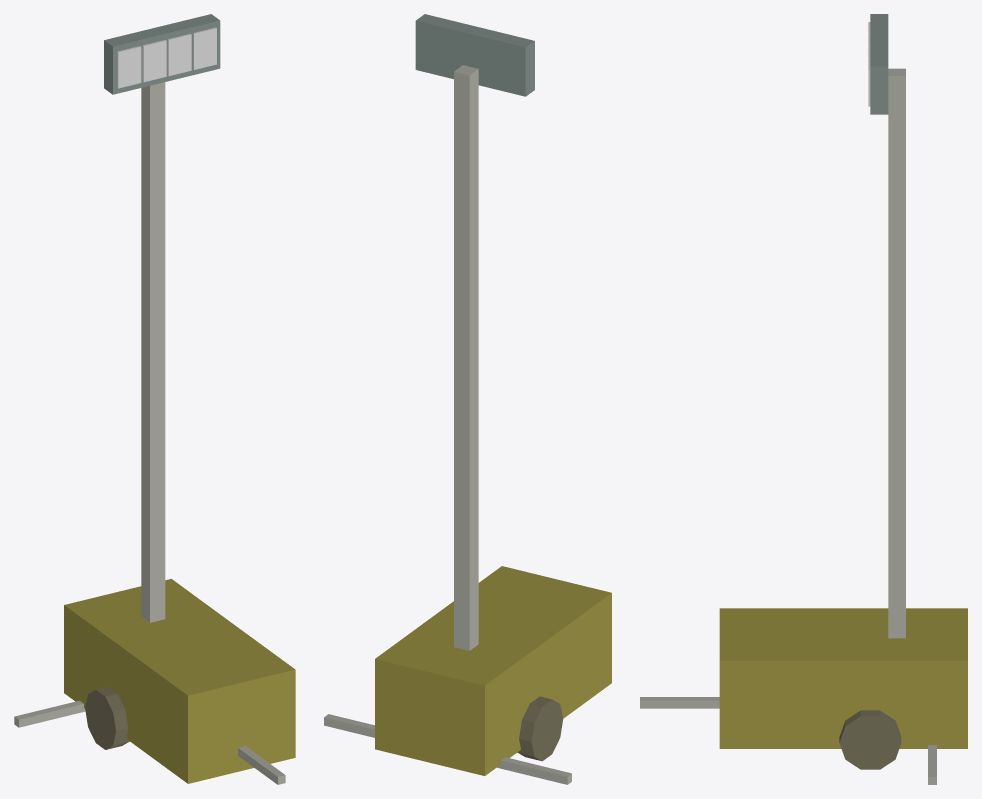
The model's file is SM_TorreLuz_v0_Desplegada_LOD0.fbx.
3 views of the same model, side by side, from view 1: azimuth 30°, elevation 25°; view 2: azimuth 150°, elevation 25°; view 3: azimuth 270°, elevation 25° (orthographic). The views are drawn at different scales.
Visible parts, largest first — view 1: SM_ambiente_aerodromo_v15_LOD0; view 2: SM_ambiente_aerodromo_v15_LOD0; view 3: SM_ambiente_aerodromo_v15_LOD0.
Boxes of the visible parts, left/top/right/bottom form: SM_ambiente_aerodromo_v15_LOD0: left=14, top=14, right=295, bottom=784; SM_ambiente_aerodromo_v15_LOD0: left=324, top=14, right=611, bottom=784; SM_ambiente_aerodromo_v15_LOD0: left=640, top=14, right=967, bottom=784.
Bounding box in the file's own units: 3.1 × 8.68 × 3.7.
